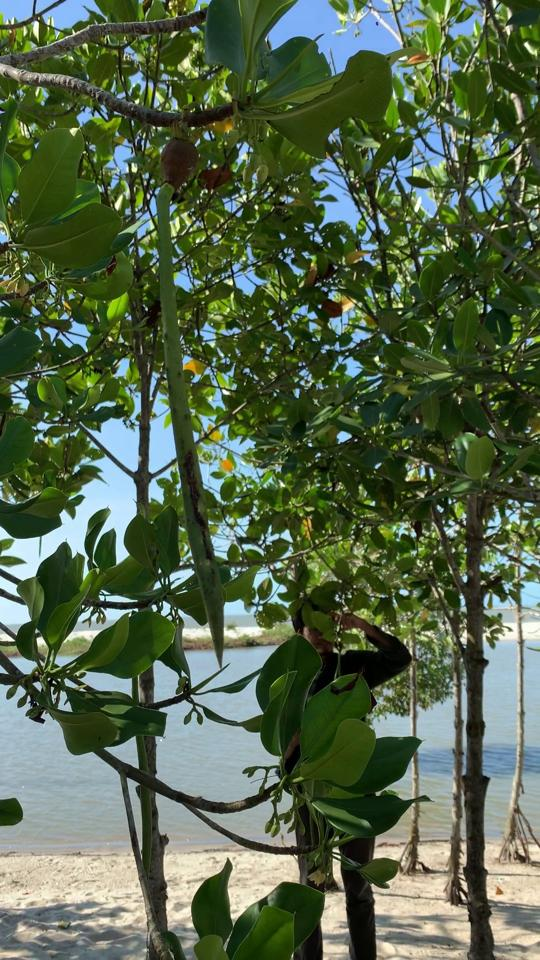setengah matang: (149, 125, 254, 671)
